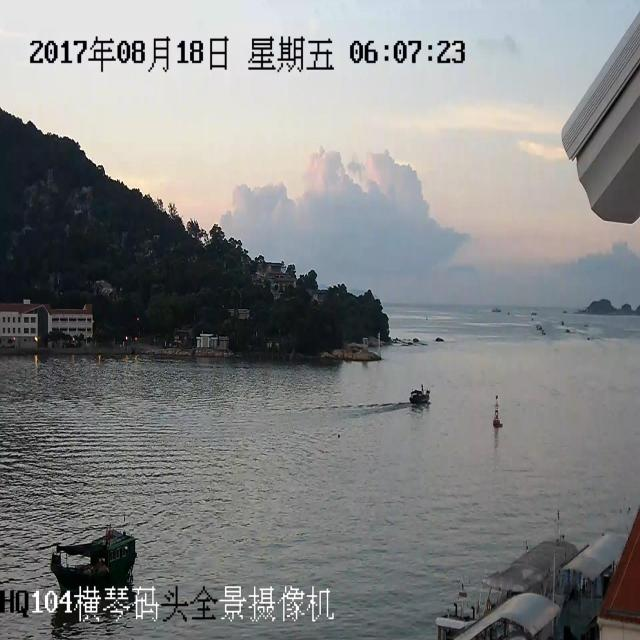buoy: (494, 387, 521, 429)
houseboat: (49, 520, 155, 610), (395, 378, 435, 415)
